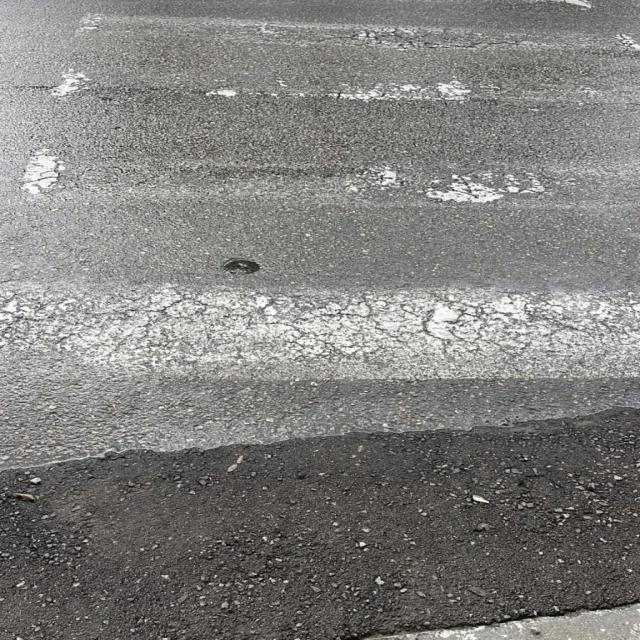medium_pothole: (221, 256, 262, 276)
